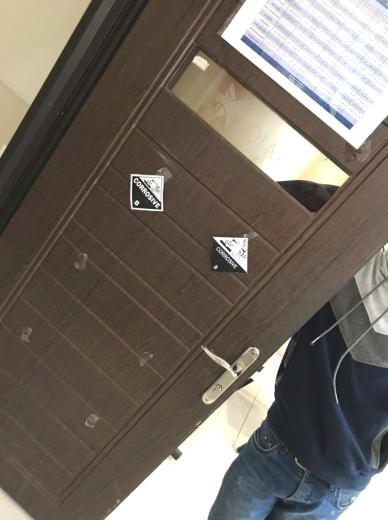corrosive: (129, 174, 165, 212), (211, 237, 247, 273)
